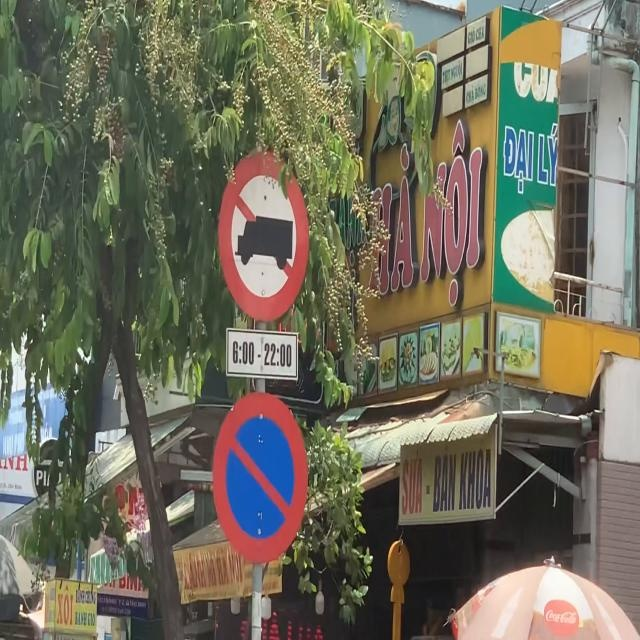bien_cam: (212, 390, 309, 565), (218, 148, 310, 321)
